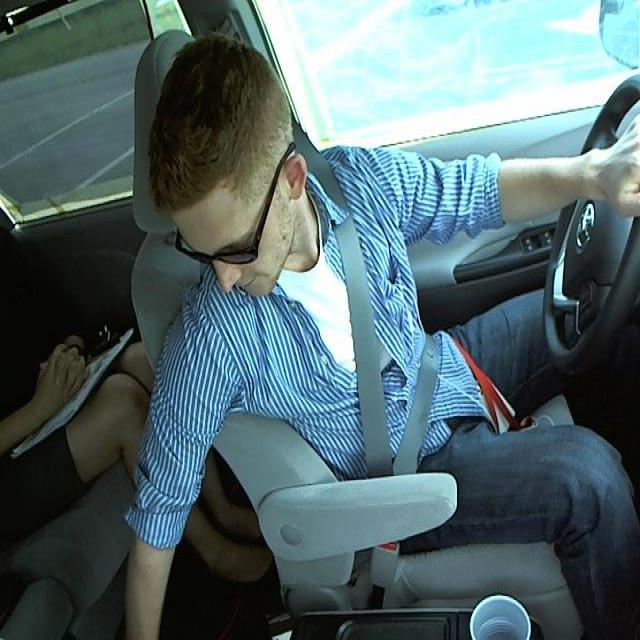seatbelt: (329, 214, 459, 478)
